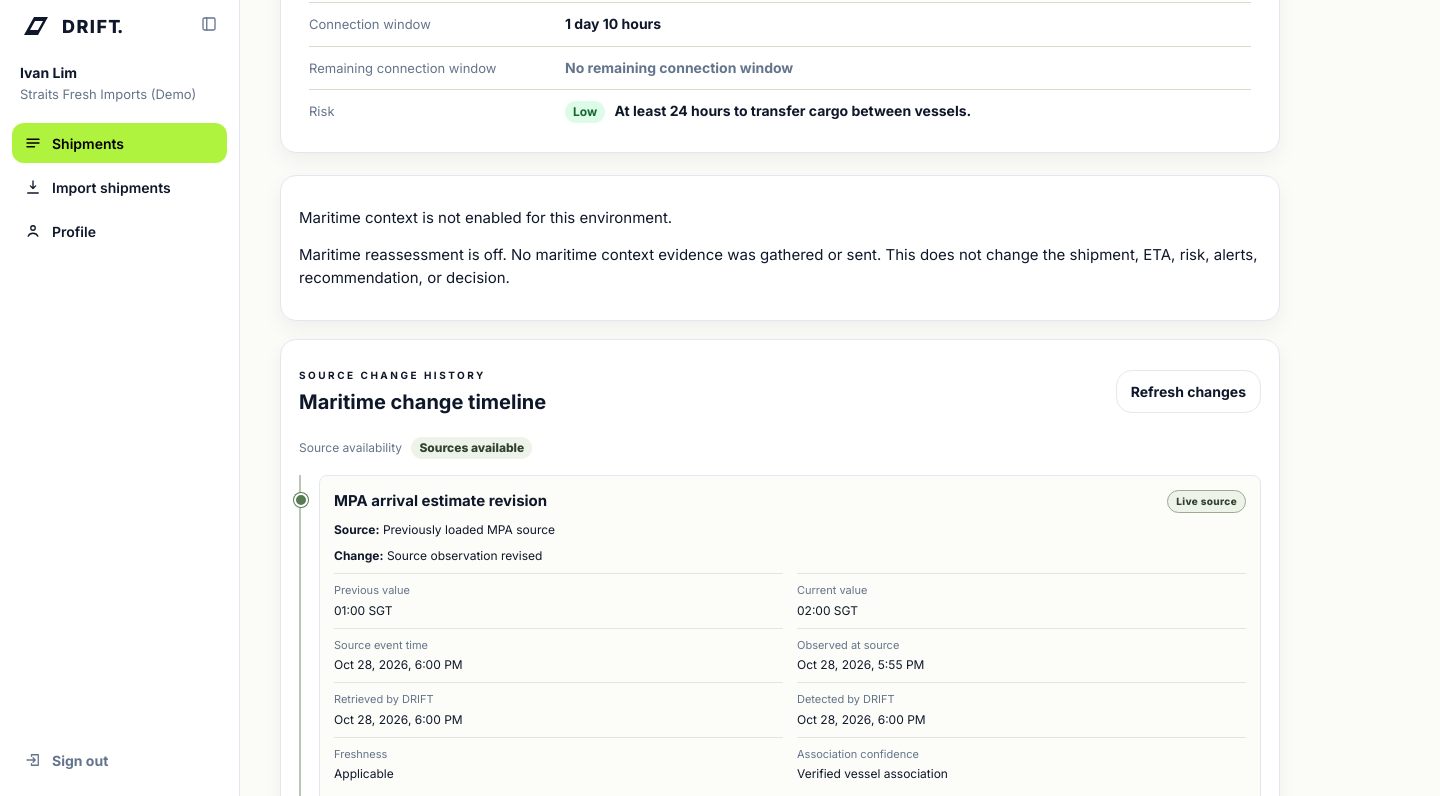
it: connection window on the shipment detail › resets to a fresh first page when incremental refresh has more than 100 changes
(page scrolled)
Click the button "Refresh changes": point(1188, 392) [1116,370,1261,413]
(page scrolled)
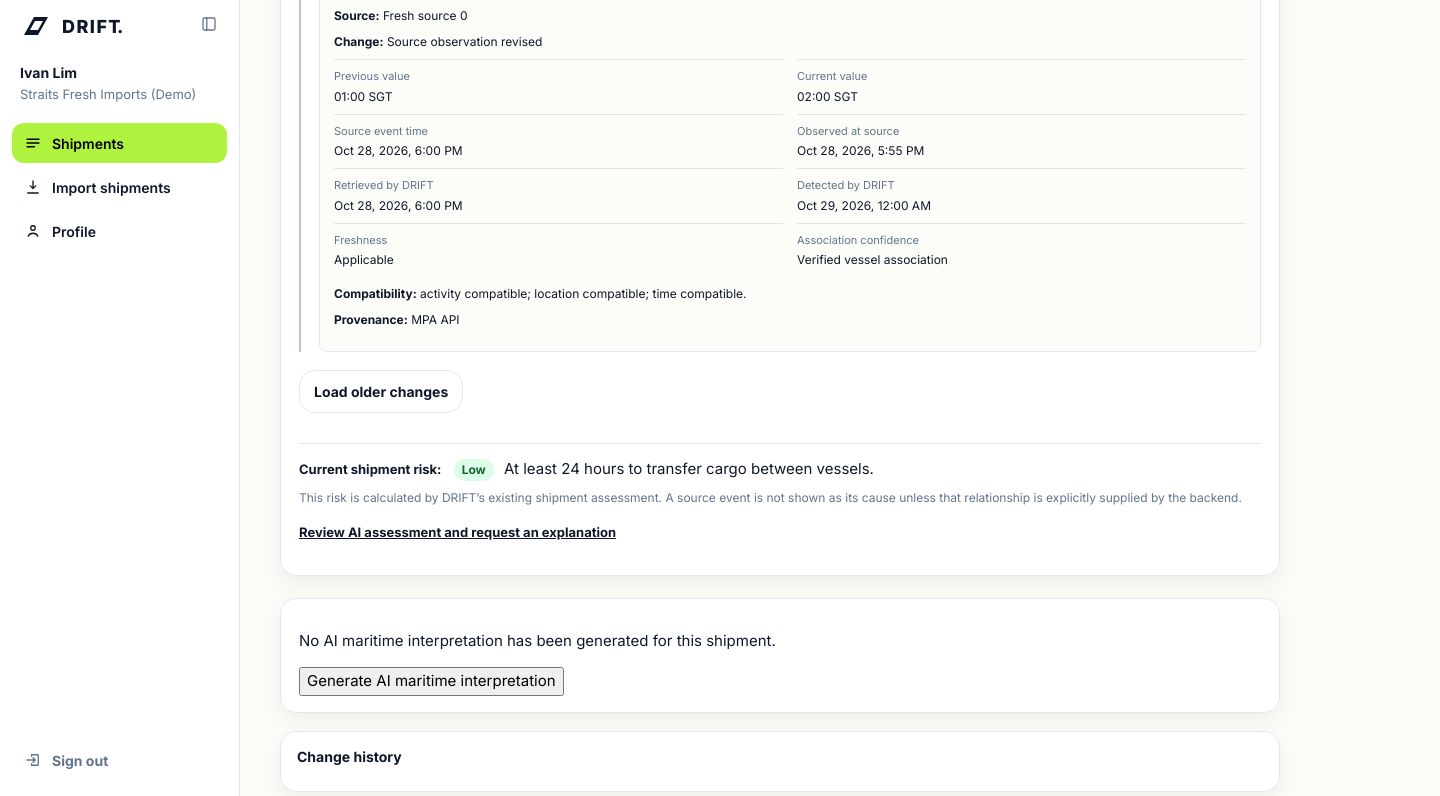
Check: the button "Load older changes" is shown, box [299,370,463,413]
Check: the text "Previously loaded MPA source" is gone
